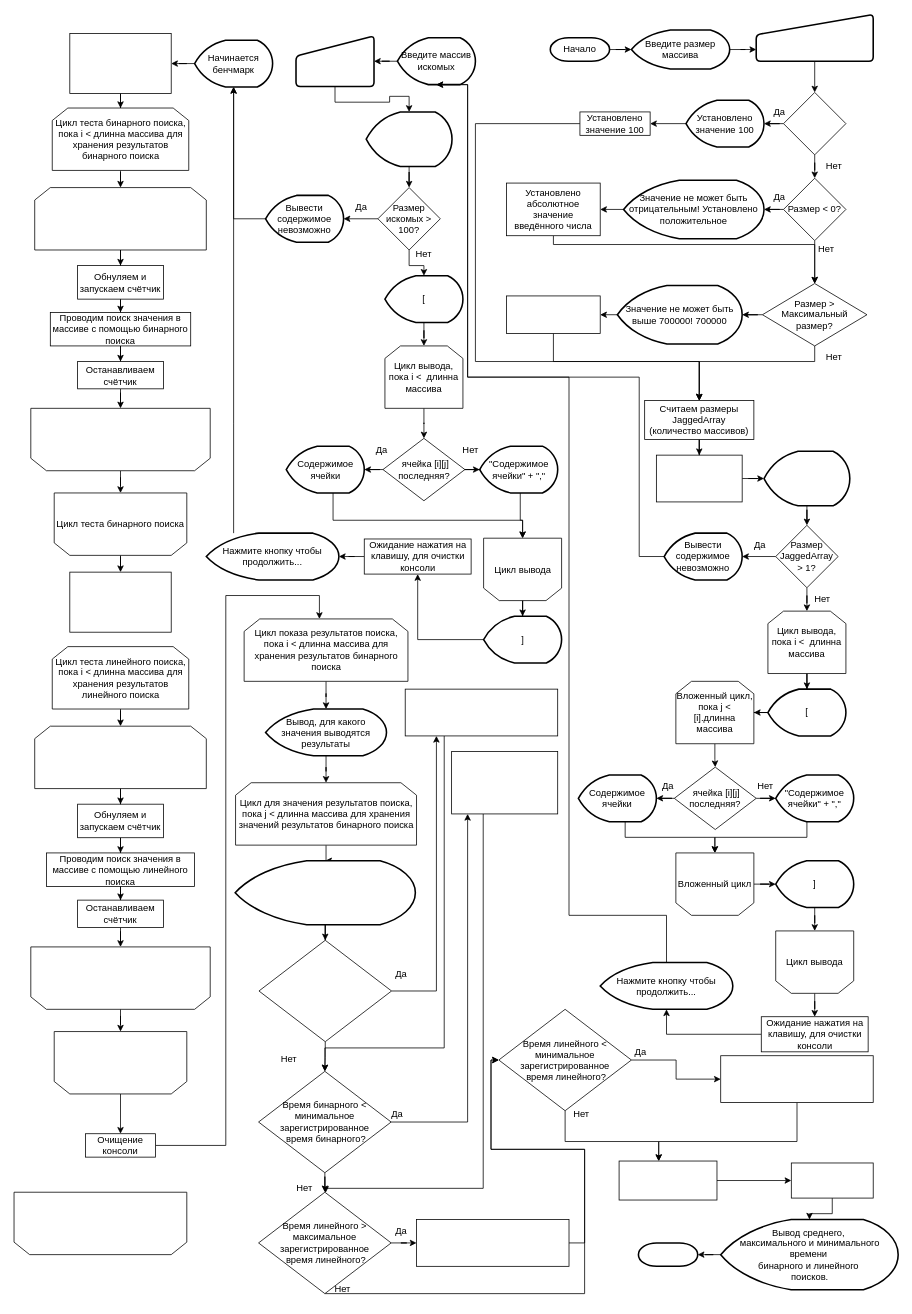
Some shapes in this 912 by 1314 pixel diagram are drawn without their labels. The centre of each missing label's shape, as x and y in pixels:
Ввод массива искомых: the point at 334,61
Ввод размера массива: the point at 814,37
Время бинарного > максимальное зарегистрированное время бинарного?: the point at 325,991
Вывод результатов бинарного и линейного поиска для текущих значений и искомого: the point at 325,892
Конец: the point at 667,1254
Размер = 0?: the point at 814,123
Создаём массивы для хранения результатов бинарного поиска: the point at 120,63
Создаём массивы для хранения результатов линейного поиска: the point at 120,601
Создаётся объект класса JaggedArray: the point at 699,478
Считаем среднее время бинарного поиска: the point at 832,1180
Считаем среднее время линейного поиска: the point at 667,1180
Успешно создан! Выводим размер: the point at 806,478
Устанавливаем новое максимальное зарегестрированое время бинарного поиска: the point at 481,712
Устанавливаем новое максимальное зарегестрированое время линейного поиска: the point at 492,1242
Устанавливаем новое минимальное зарегистрированное время бинарного поиска.: the point at 504,782
Устанавливаем новое минимальное зарегистрированное время линейного поиска.: the point at 796,1079
Установлено абсолютное значение 700000: the point at 553,314
Цикл для значения результатов поиска: the point at 100,1223
Цикл массива для бинарного поиска: the point at 120,439
Цикл массива для бинарного поиска, Пока j < длинны jaggedArray: the point at 120,218
Цикл массива для линейного поиска: the point at 120,977
Цикл массива для линейного поиска, Пока j < длинны jaggedArray: the point at 120,757
Цикл теста линейного поиска: the point at 120,1062
Числа получены! вывод количества: the point at 408,139
